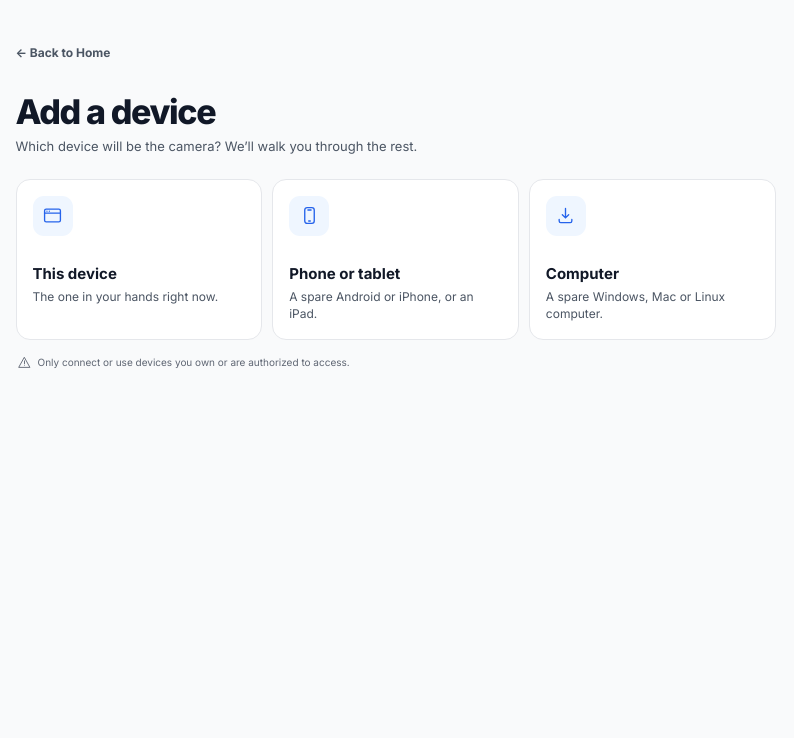
AddDevicePage › shows the computer setup inside the page
Click the radio button labelled "Computer A spare Windows, Mac or Linux computer." at (652, 259), box [529, 178, 776, 340]
(page scrolled)
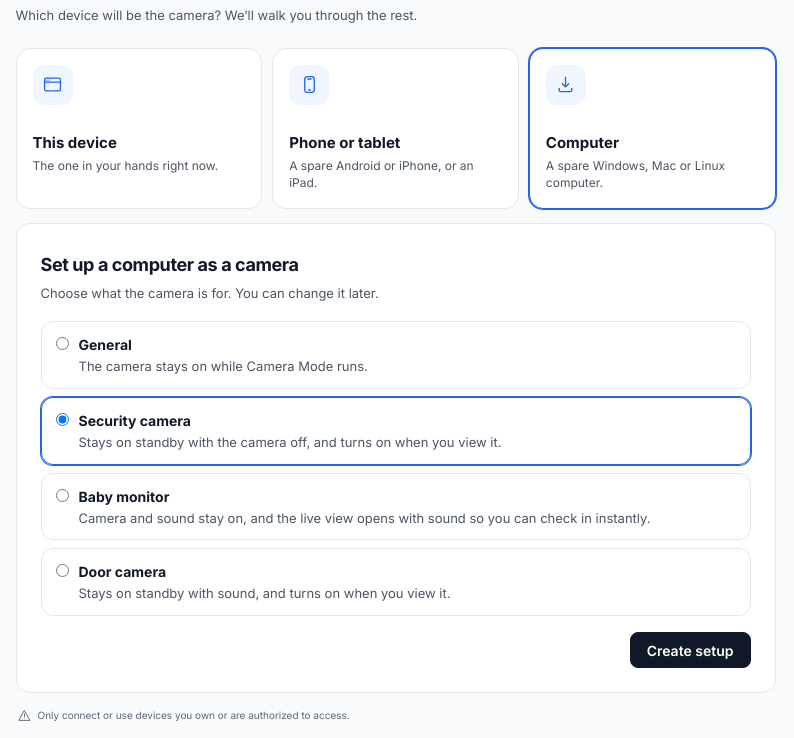
Check: the button "Create setup" is shown, box [630, 632, 750, 668]
